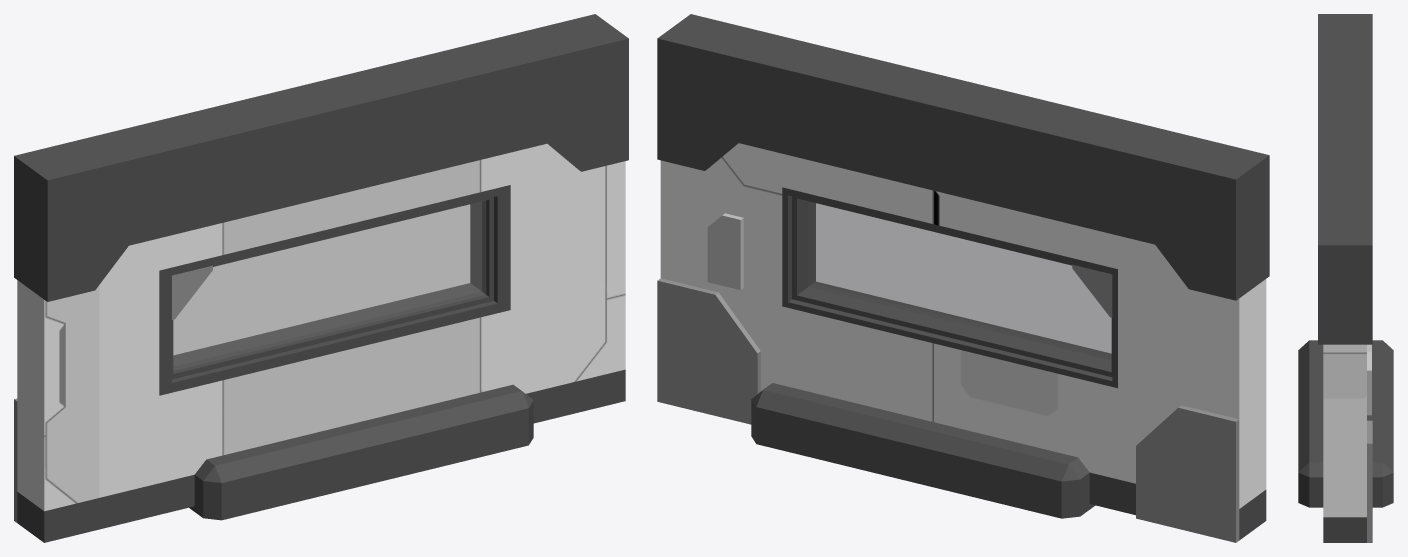
File: SM_Wall_5x3_Window_1.fbx
3 renders of one model, left to right at view 1: azimuth 30°, elevation 25°; view 2: azimuth 150°, elevation 25°; view 3: azimuth 270°, elevation 25°, orthographic. The views are drawn at different scales.
Visible parts, largest first — view 1: SM_Wall_5x3_Window_1; view 2: SM_Wall_5x3_Window_1; view 3: SM_Wall_5x3_Window_1.
Part boxes in pixels (<box>): SM_Wall_5x3_Window_1: <box>14,14,628,542</box>; SM_Wall_5x3_Window_1: <box>657,14,1269,542</box>; SM_Wall_5x3_Window_1: <box>1298,14,1393,542</box>.
Size of the model in its own units: 500 by 305 by 87.34.
